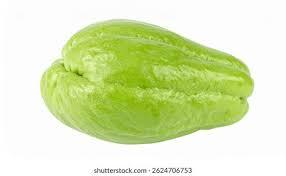non-mango: (39, 17, 254, 144)
